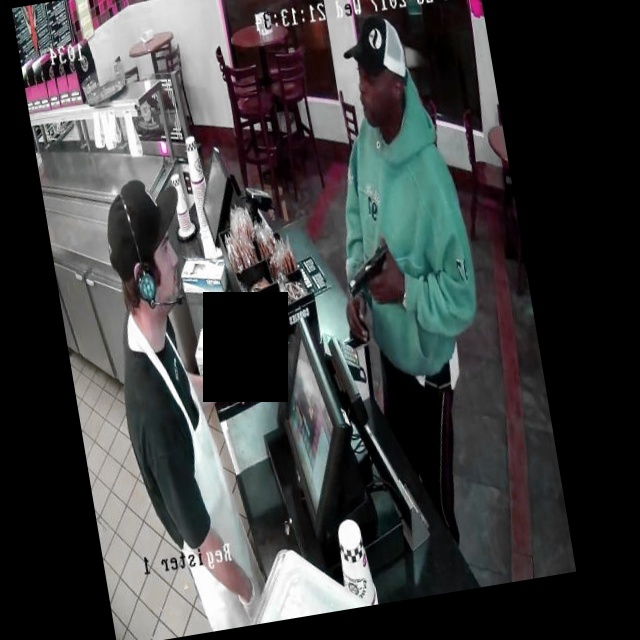gun: (329, 234, 405, 308)
